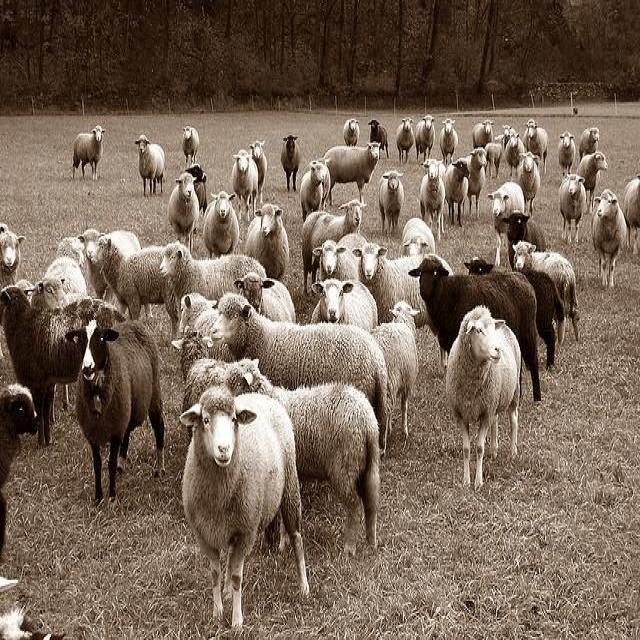Sheep: (0, 41, 626, 578), (227, 360, 386, 558), (180, 388, 309, 630), (210, 291, 393, 457), (2, 287, 126, 449), (409, 257, 542, 403), (63, 317, 165, 503), (446, 305, 522, 493), (90, 237, 179, 338), (170, 329, 227, 413), (236, 203, 289, 284), (310, 280, 378, 334), (33, 257, 90, 311)
